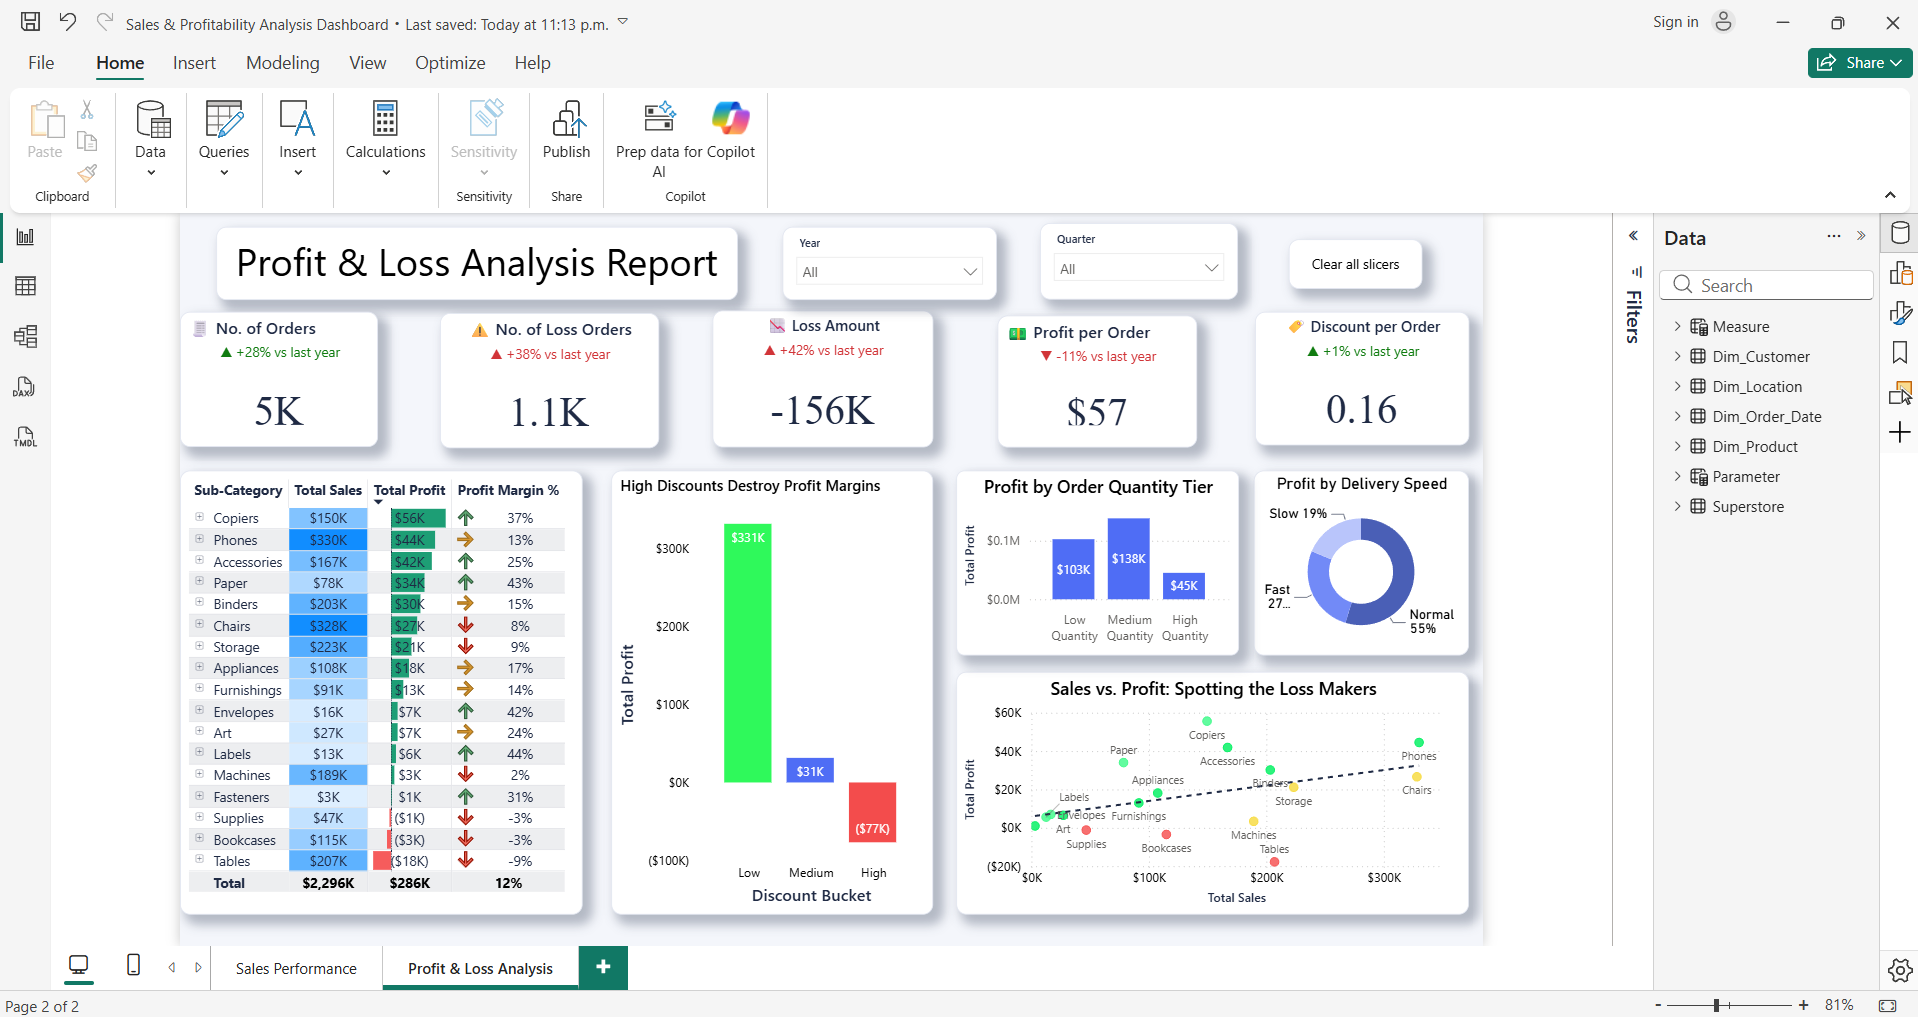

This screenshot's page, from the dashboard's own definition file:
{"tool":"powerbi","page":{"name":"Profit & Loss Analysis","canvas":[1280,720],"ordinal":1},"visuals":[{"type":"donutChart","title":"Profit by Delivery Speed","fields":{"Category":["Superstore.Delivery Time Bucket"],"Y":["Measure.Total Profit"]},"box":[1054,252.8,211,181.6],"z":3000},{"type":"clusteredColumnChart","title":"High Discounts Destroy Profit Margins","fields":{"Category":["Superstore.Discount Bucket"],"Y":["Measure.Total Profit"]},"box":[422.7,252.5,316,435.7],"z":4000},{"type":"scatterChart","title":"Sales vs. Profit: Spotting the Loss Makers","fields":{"Category":["Superstore.Sub-Category"],"X":["Measure.Total Sales"],"Y":["Measure.Total Profit"]},"box":[761.8,450.1,503.5,238.1],"z":5000},{"type":"clusteredColumnChart","title":"Profit by Order Quantity Tier","fields":{"Category":["Superstore.Quantity Bucket"],"Y":["Measure.Total Profit"]},"box":[762,252.8,277.3,181.6],"z":6000},{"type":"actionButton","box":[1087.8,26,131.3,49.1],"z":7000},{"type":"slicer","fields":{"Values":["Dim_Order_Date.Quarter Name"]},"box":[844,10.1,194.8,75],"z":8000},{"type":"textbox","box":[36.1,13,512.2,72.1],"z":9000},{"type":"cardVisual","title":"🧾 No. of Orders","fields":{"Data":["Measure.No. of Orders"]},"box":[0,96.7,194.8,132.7],"z":10000},{"type":"cardVisual","title":"⚠️ No. of Loss Orders","fields":{"Data":["Measure.No. of Loss Orders"]},"box":[255.4,98.1,215,132.7],"z":11000},{"type":"cardVisual","title":"📉 Loss Amount","fields":{"Data":["Measure.Loss Amount"]},"box":[522.3,95.2,216.4,134.2],"z":12000},{"type":"cardVisual","title":"🏷️ Discount per Order","fields":{"Data":["Measure.Discount per Order"]},"box":[1054.7,96.7,210.6,131.3],"z":13000},{"type":"cardVisual","title":"💵 Profit per Order","fields":{"Data":["Measure.Profit per Order"]},"box":[802.2,101,196.2,129.8],"z":14000},{"type":"pivotTable","fields":{"Rows":["Superstore.Sub-Category","Superstore.Segment"],"Values":["Measure.Total Sales","Measure.Total Profit","Measure.Profit Margin %"]},"box":[0,252.5,395.3,435.7],"z":15000},{"type":"slicer","fields":{"Values":["Dim_Order_Date.Year"]},"box":[591.5,13,210.6,72.1],"z":15001}]}

Visuals, with their boxes on the page's 1280x720 design canvas (x1, y1, x2, y2). These are canvas units, not pixel positions in the 1918x1017 screenshot, which may show the page scaled, cropped or inside an application window:
"Profit by Delivery Speed" donutChart: (x1=1054, y1=253, x2=1265, y2=434)
"High Discounts Destroy Profit Margins" clusteredColumnChart: (x1=423, y1=252, x2=739, y2=688)
"Sales vs. Profit: Spotting the Loss Makers" scatterChart: (x1=762, y1=450, x2=1265, y2=688)
"Profit by Order Quantity Tier" clusteredColumnChart: (x1=762, y1=253, x2=1039, y2=434)
actionButton: (x1=1088, y1=26, x2=1219, y2=75)
slicer - Dim_Order_Date.Quarter Name: (x1=844, y1=10, x2=1039, y2=85)
textbox: (x1=36, y1=13, x2=548, y2=85)
"🧾 No. of Orders" cardVisual: (x1=0, y1=97, x2=195, y2=229)
"⚠️ No. of Loss Orders" cardVisual: (x1=255, y1=98, x2=470, y2=231)
"📉 Loss Amount" cardVisual: (x1=522, y1=95, x2=739, y2=229)
"🏷️ Discount per Order" cardVisual: (x1=1055, y1=97, x2=1265, y2=228)
"💵 Profit per Order" cardVisual: (x1=802, y1=101, x2=998, y2=231)
pivotTable - Superstore.Sub-Category x Superstore.Segment: (x1=0, y1=252, x2=395, y2=688)
slicer - Dim_Order_Date.Year: (x1=592, y1=13, x2=802, y2=85)
